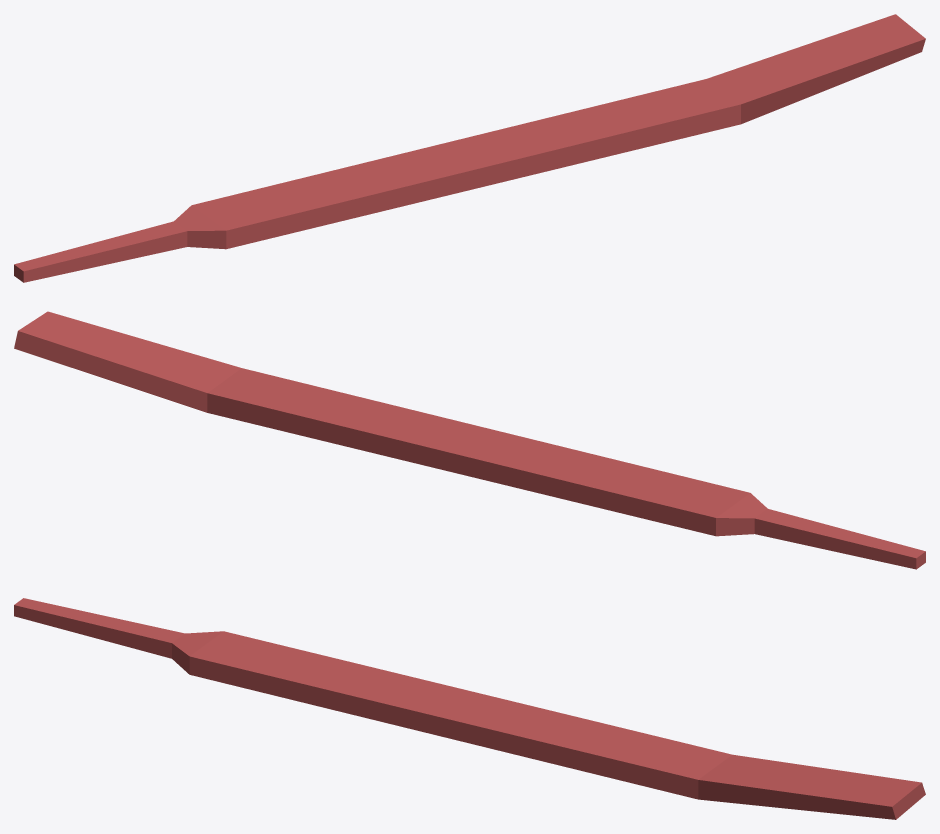
The model's file is epee_forge.fbx.
3 renders of one model, top to bottom at view 1: azimuth 30°, elevation 25°; view 2: azimuth 150°, elevation 25°; view 3: azimuth 330°, elevation 25°, orthographic.
Visible parts, largest first — view 1: epee_forge; view 2: epee_forge; view 3: epee_forge.
Boxes of the visible parts, bbox=[...] form: epee_forge: bbox=[14, 14, 925, 282]; epee_forge: bbox=[14, 311, 925, 569]; epee_forge: bbox=[14, 598, 925, 819].
Size of the model in its own units: 0.7867 by 0.0314 by 0.0607.
